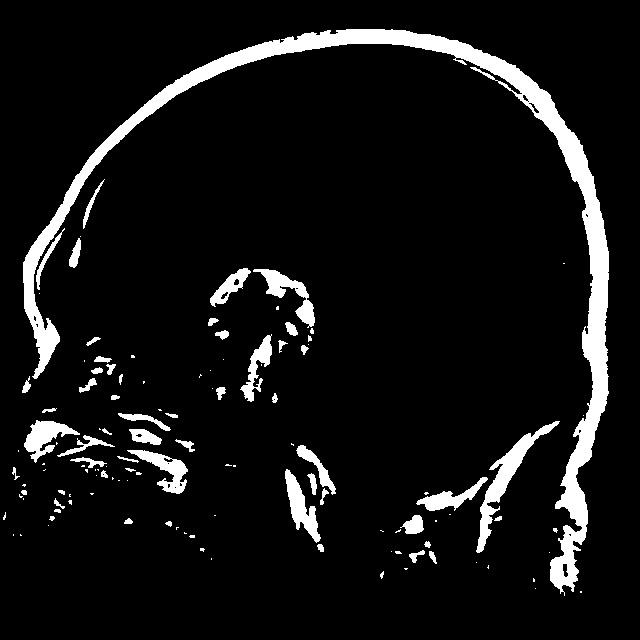Brain-Tumor: (193, 256, 333, 408)
